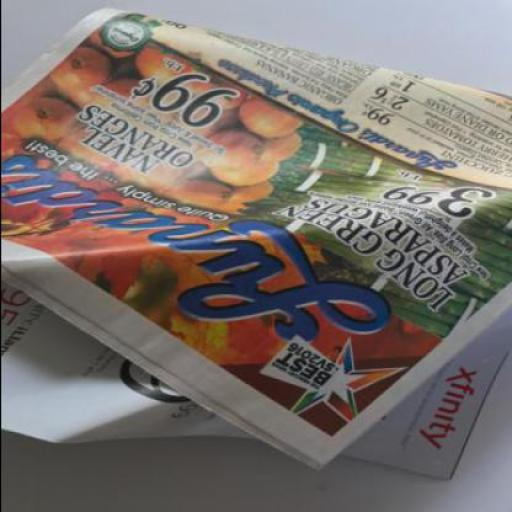paper: (1, 16, 506, 478)
